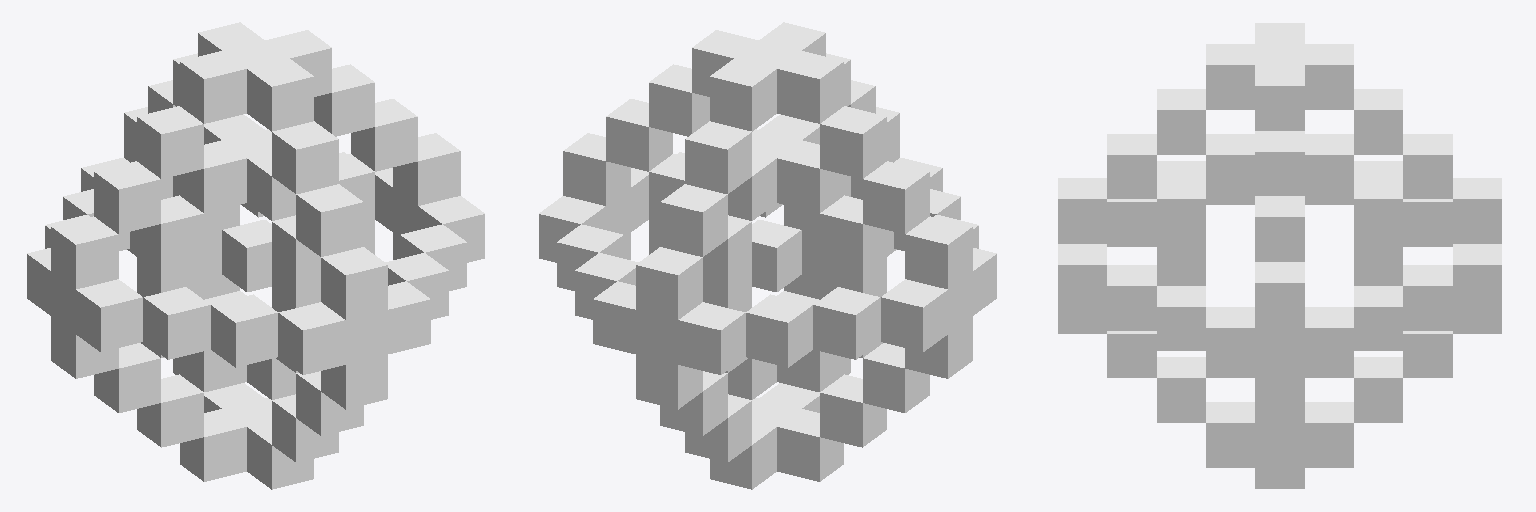
Rendered from attack.obj.
The picture shows the model from 3 angles: view 1: azimuth 30°, elevation 25°; view 2: azimuth 150°, elevation 25°; view 3: azimuth 270°, elevation 25°; orthographic projection.
Size of the model in its own units: 9 by 9 by 9.